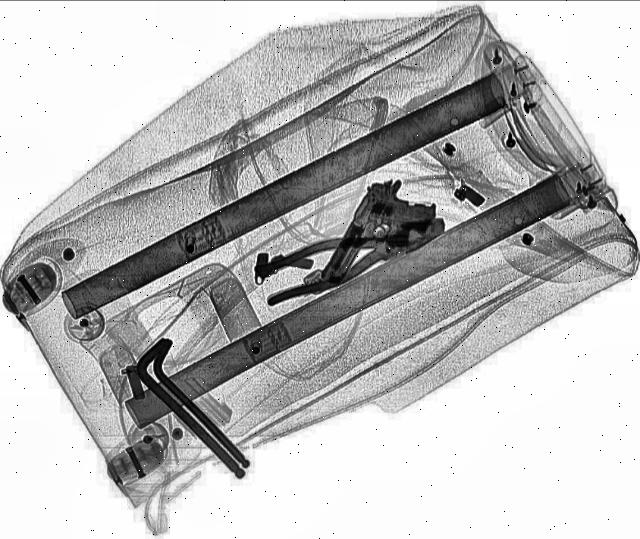Gun: (316, 172, 446, 300)
Pliers: (245, 202, 458, 306)
